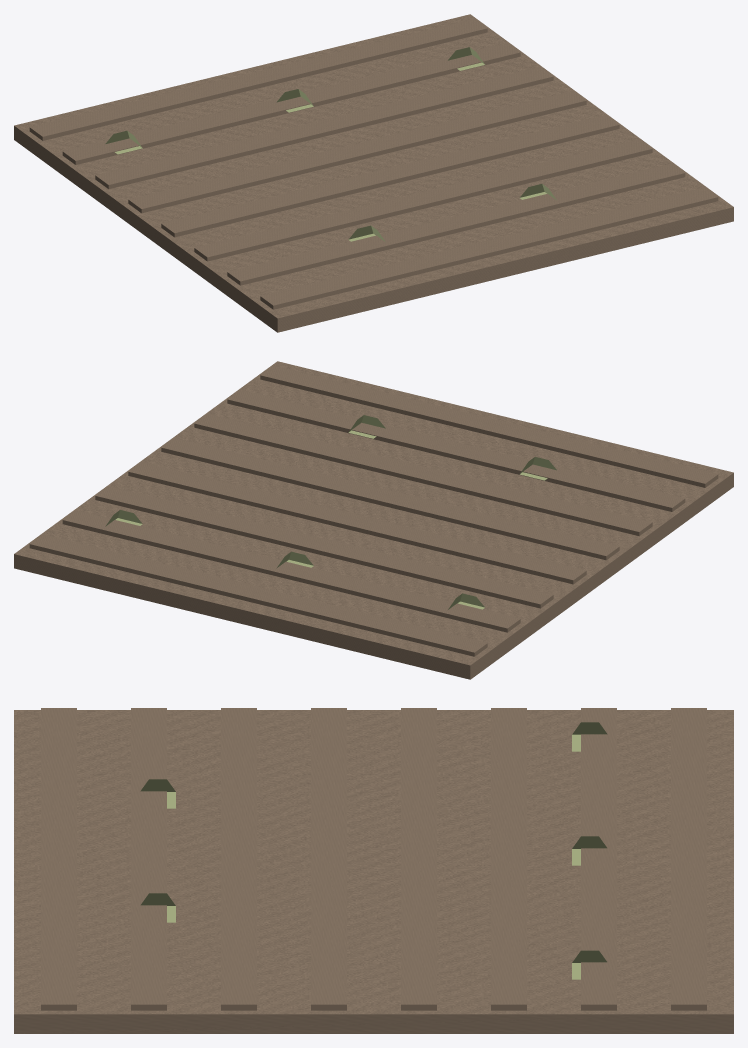
File: vineyard-soil-tile.glb
3 renders of one model, top to bottom at view 1: azimuth 30°, elevation 25°; view 2: azimuth 150°, elevation 25°; view 3: azimuth 270°, elevation 25°, orthographic. The views are drawn at different scales.
Visible parts, largest first — view 1: vineyard-soil-tile-soil, vineyard-soil-tile-grass; view 2: vineyard-soil-tile-soil, vineyard-soil-tile-grass; view 3: vineyard-soil-tile-soil, vineyard-soil-tile-grass.
Part boxes in pixels (bbox=[...]): vineyard-soil-tile-soil: bbox=[14, 14, 733, 332]; vineyard-soil-tile-grass: bbox=[105, 47, 556, 241]; vineyard-soil-tile-soil: bbox=[14, 361, 733, 679]; vineyard-soil-tile-grass: bbox=[105, 415, 556, 609]; vineyard-soil-tile-soil: bbox=[14, 708, 733, 1033]; vineyard-soil-tile-grass: bbox=[140, 722, 607, 979].
Size of the model in its own units: 4 by 0.2498 by 4.
2 materials, 1 textured.
